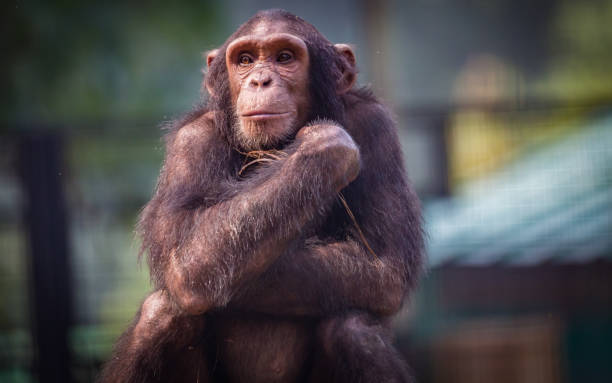chimpanzee: (184, 3, 400, 200)
